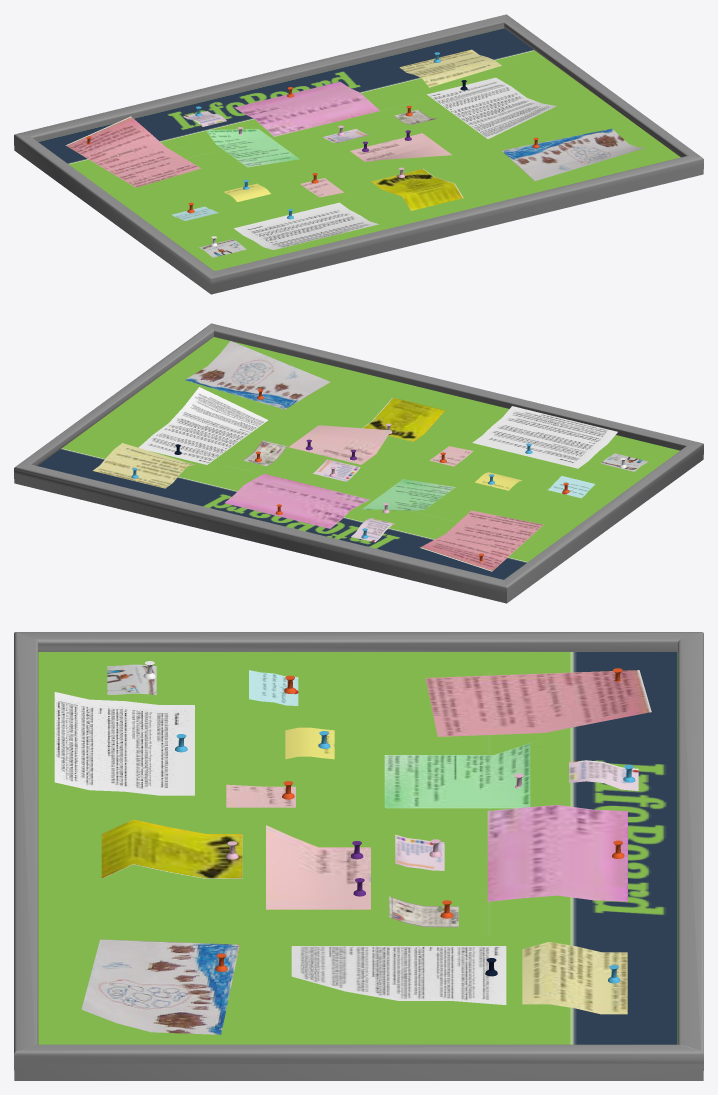
The model's file is Poster04_1.FBX.
The picture shows the model from 3 angles, top to bottom: view 1: azimuth 30°, elevation 25°; view 2: azimuth 150°, elevation 25°; view 3: azimuth 270°, elevation 25°; orthographic projection. The views are drawn at different scales.
Parts seen in each view (by area): view 1: Poster04_1; view 2: Poster04_1; view 3: Poster04_1.
Boxes of the visible parts, x1=… form: Poster04_1: x1=14, y1=14, x2=703, y2=294; Poster04_1: x1=14, y1=323, x2=703, y2=603; Poster04_1: x1=14, y1=632, x2=703, y2=1080.
Size of the model in its own units: 297 by 15.46 by 206.
